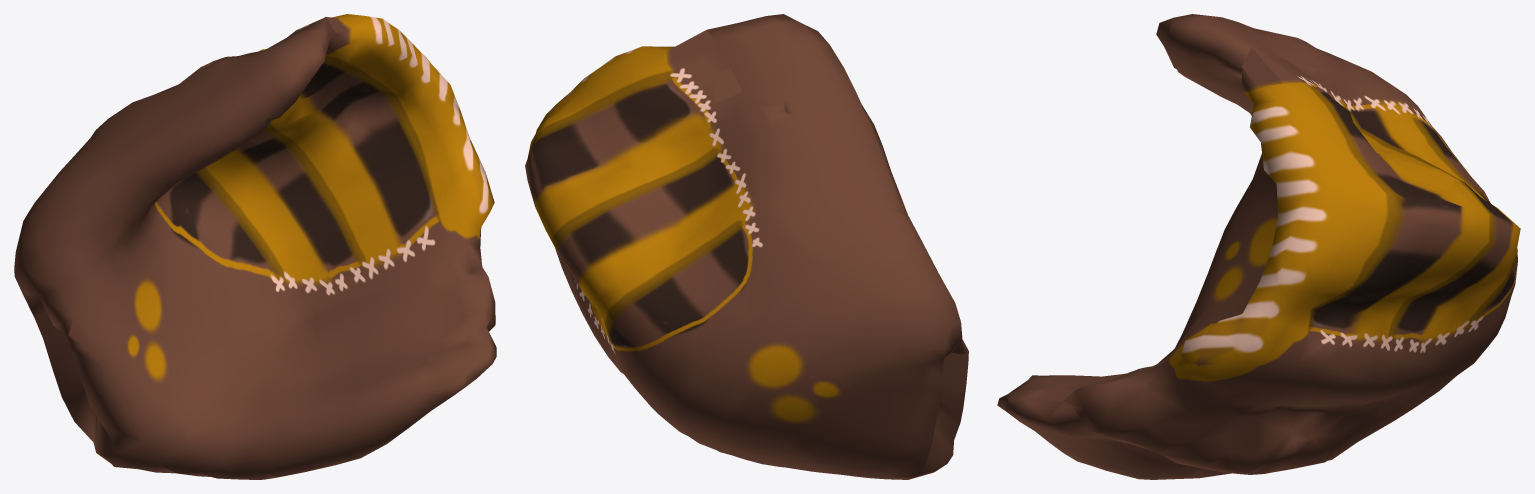
The model's file is baseball-glove.gltf.
3 renders of one model, left to right at view 1: azimuth 30°, elevation 25°; view 2: azimuth 150°, elevation 25°; view 3: azimuth 270°, elevation 25°, orthographic. The views are drawn at different scales.
Parts seen in each view (by area): view 1: Baseball Glove; view 2: Baseball Glove; view 3: Baseball Glove.
Part boxes in pixels (box(x1,y1,x2,y2)): Baseball Glove: box(14, 14, 496, 479); Baseball Glove: box(525, 14, 968, 479); Baseball Glove: box(997, 14, 1520, 479).
Size of the model in its own units: 2.23 by 2.05 by 2.05.
1 material, 1 textured.
